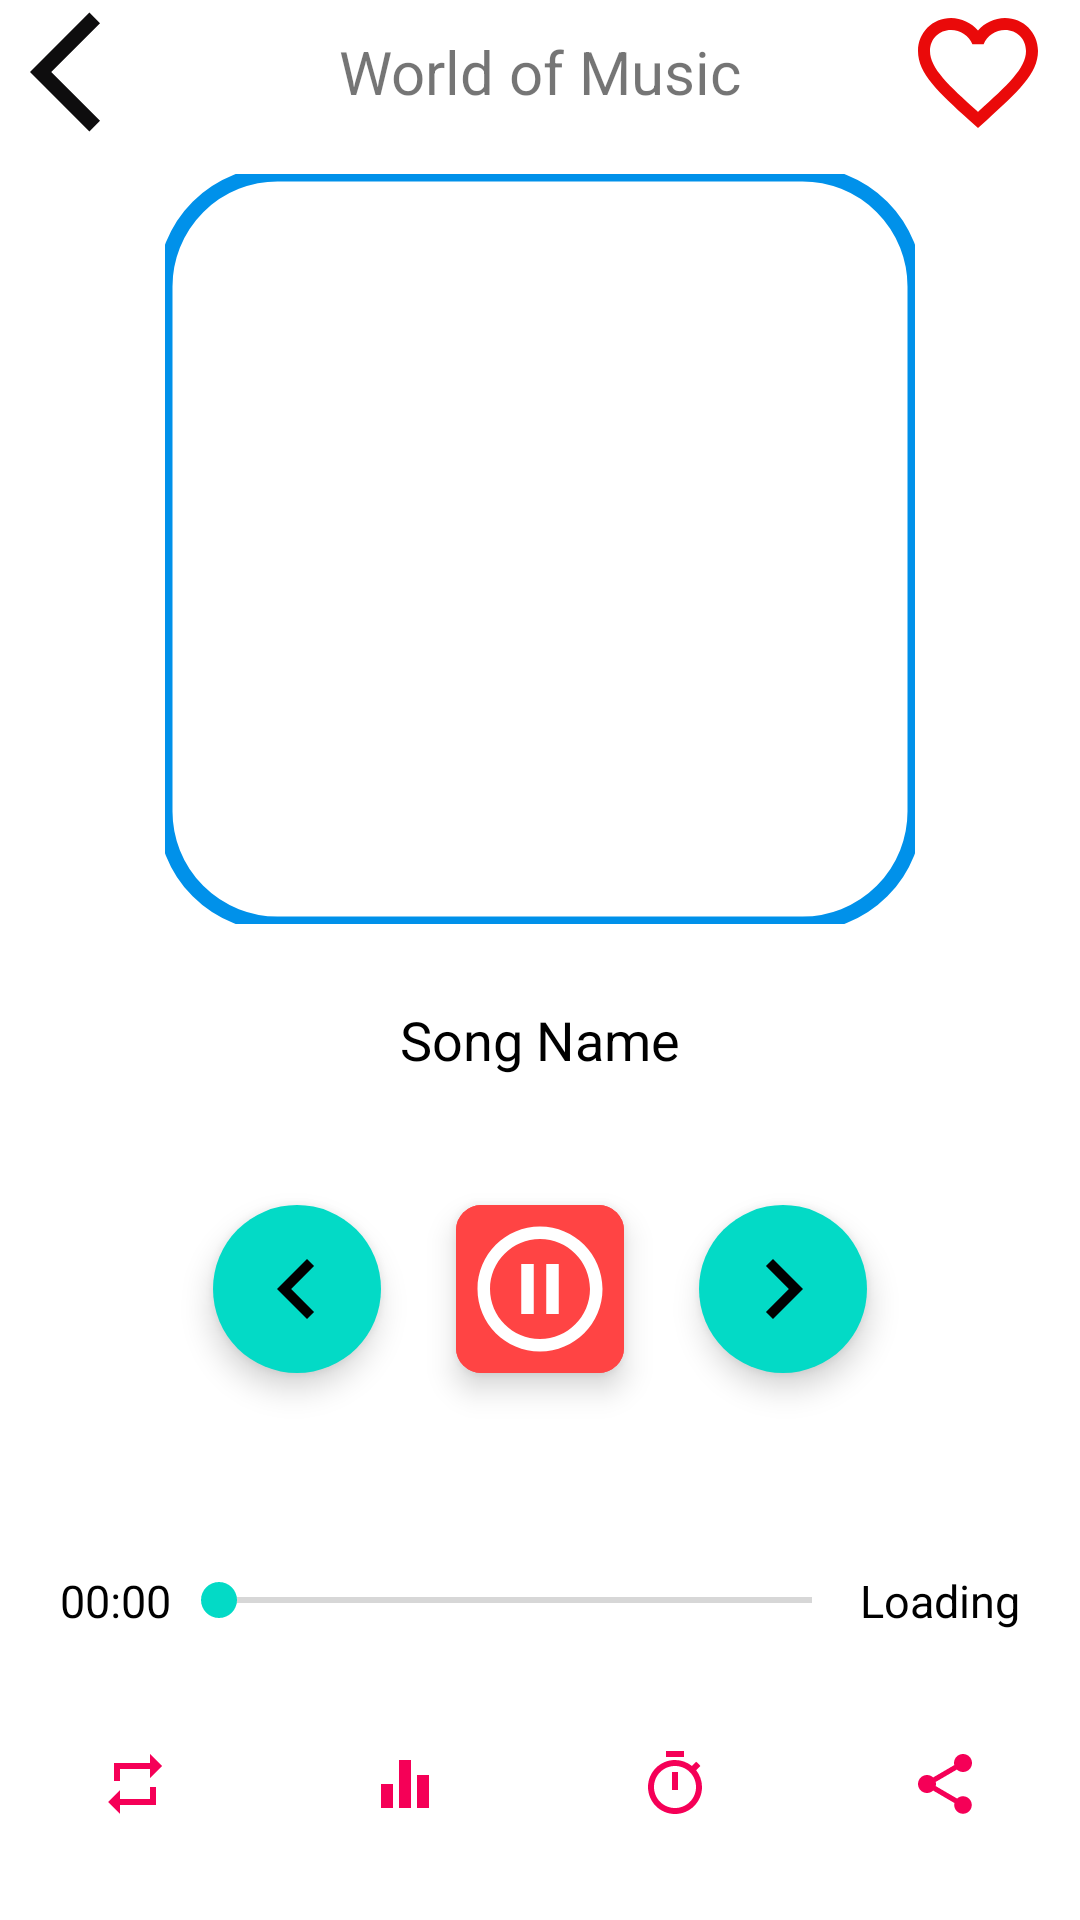

Screen size 1080px x 1920px. Icon name, then its box in pixels as box(x1, y1, x2, y2):
back: box(30, 12, 100, 132), box(213, 1205, 381, 1373)
Equalizer: box(381, 1760, 429, 1808)
favourite empty: box(918, 18, 1038, 128)
next: box(699, 1205, 867, 1373)
pause: box(456, 1205, 624, 1373)
repeat: box(108, 1754, 162, 1814)
Share: box(918, 1754, 972, 1814)
timer: box(648, 1751, 702, 1814)
